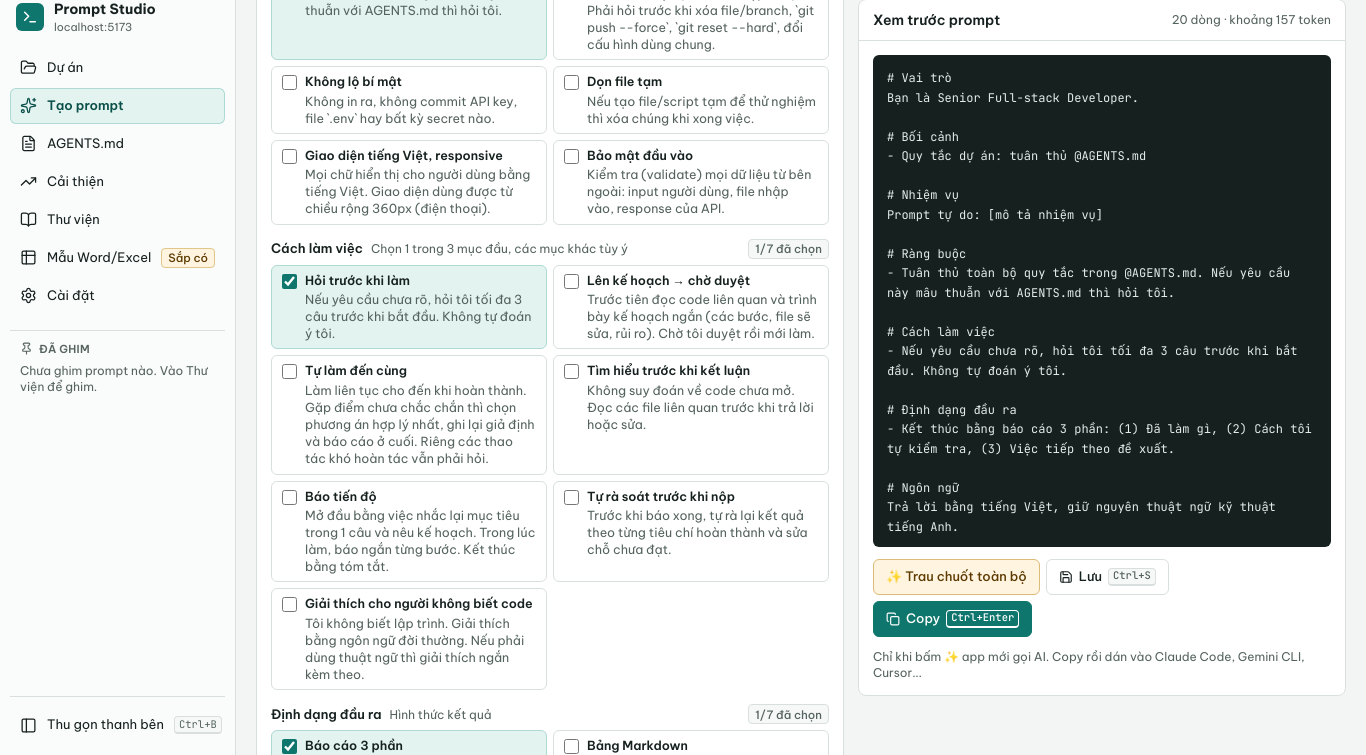
Test: Trình tạo prompt › chỉ chọn được 1 trong 3 mức tự chủ
(page scrolled)
Expected: the checkbox labelled "Hỏi trước khi làm" is checked, left=282, top=274, right=297, bottom=289
Click the checkbox labelled "Tự làm đến cùng": [290, 372] box left=282, top=364, right=297, bottom=379
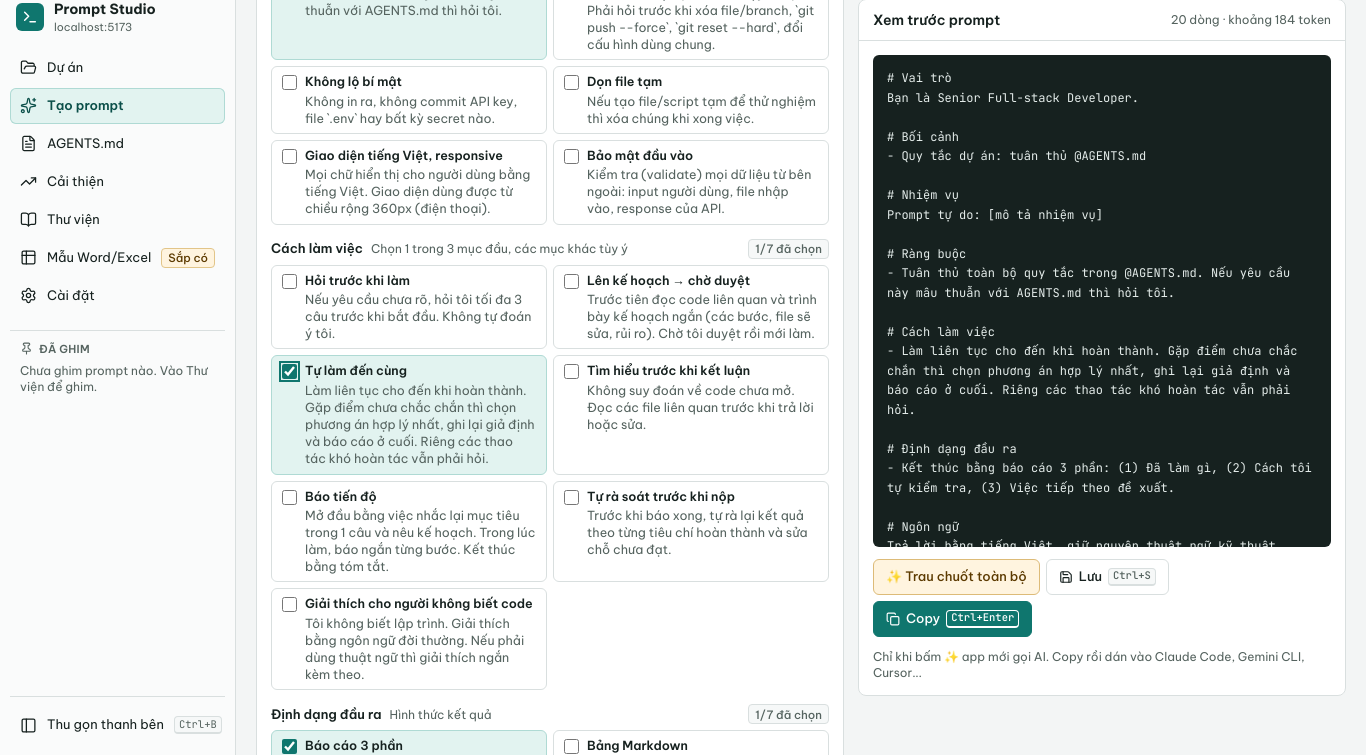
Expected: the checkbox labelled "Tự làm đến cùng" is checked, left=282, top=364, right=297, bottom=379
Expected: the checkbox labelled "Hỏi trước khi làm" is not checked, left=282, top=274, right=297, bottom=289
